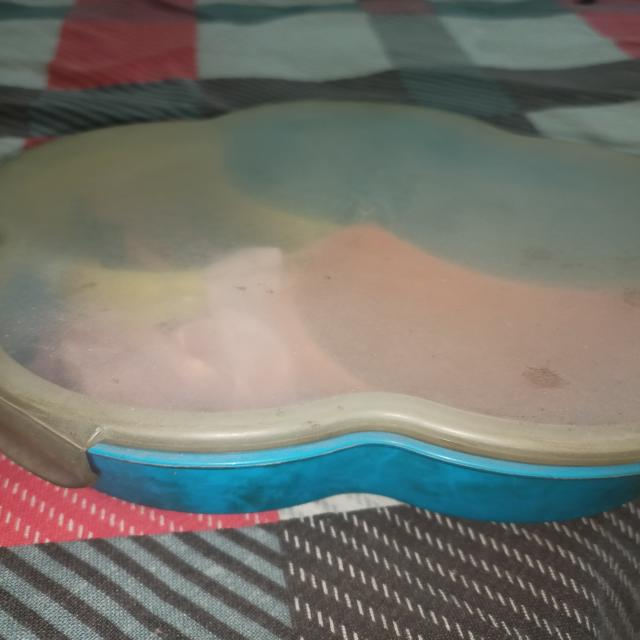plastic_box: (9, 61, 640, 580)
